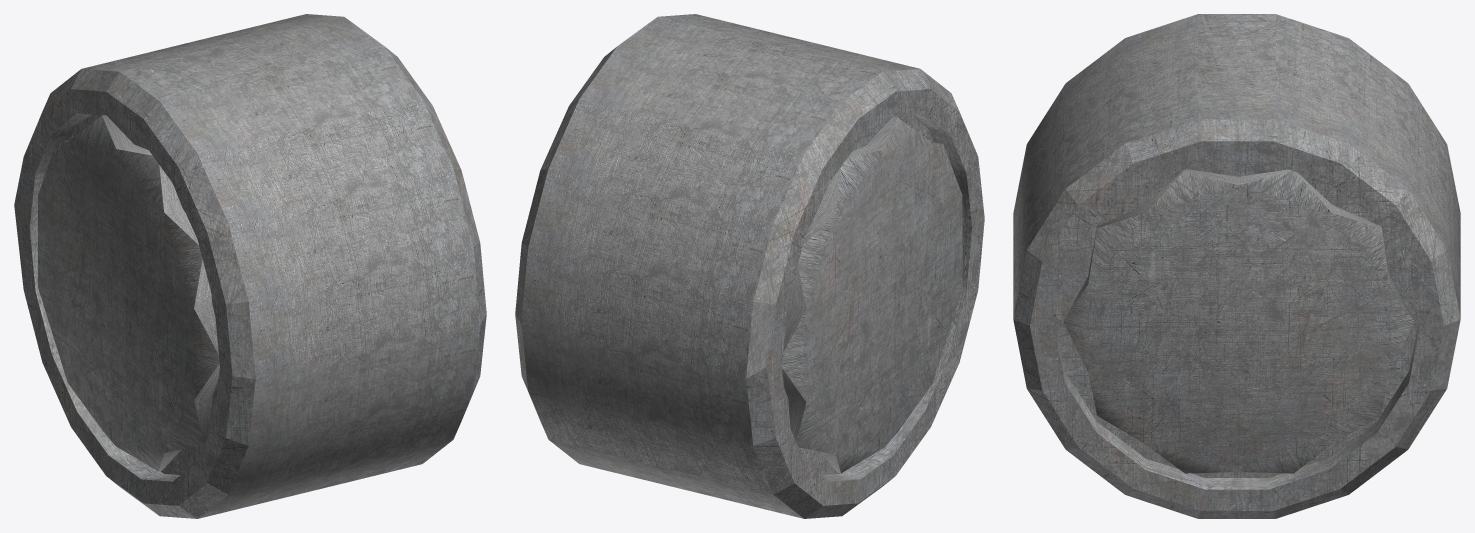
The model's file is wheel.obj.
The picture shows the model from 3 angles, left to right: view 1: azimuth 30°, elevation 25°; view 2: azimuth 150°, elevation 25°; view 3: azimuth 270°, elevation 25°; orthographic projection. The views are drawn at different scales.
Parts seen in each view (by area): view 1: Tyre, Hub1; view 2: Tyre, Hub1; view 3: Tyre, Hub2.
Boxes of the visible parts, left/top/right/bottom form: Tyre: left=14, top=14, right=486, bottom=518; Hub1: left=38, top=115, right=219, bottom=471; Tyre: left=515, top=14, right=984, bottom=518; Hub1: left=782, top=116, right=962, bottom=473; Tyre: left=1013, top=14, right=1460, bottom=518; Hub2: left=1063, top=169, right=1415, bottom=473.
Bounding box in the file's own units: 14.81 × 21.67 × 22.
